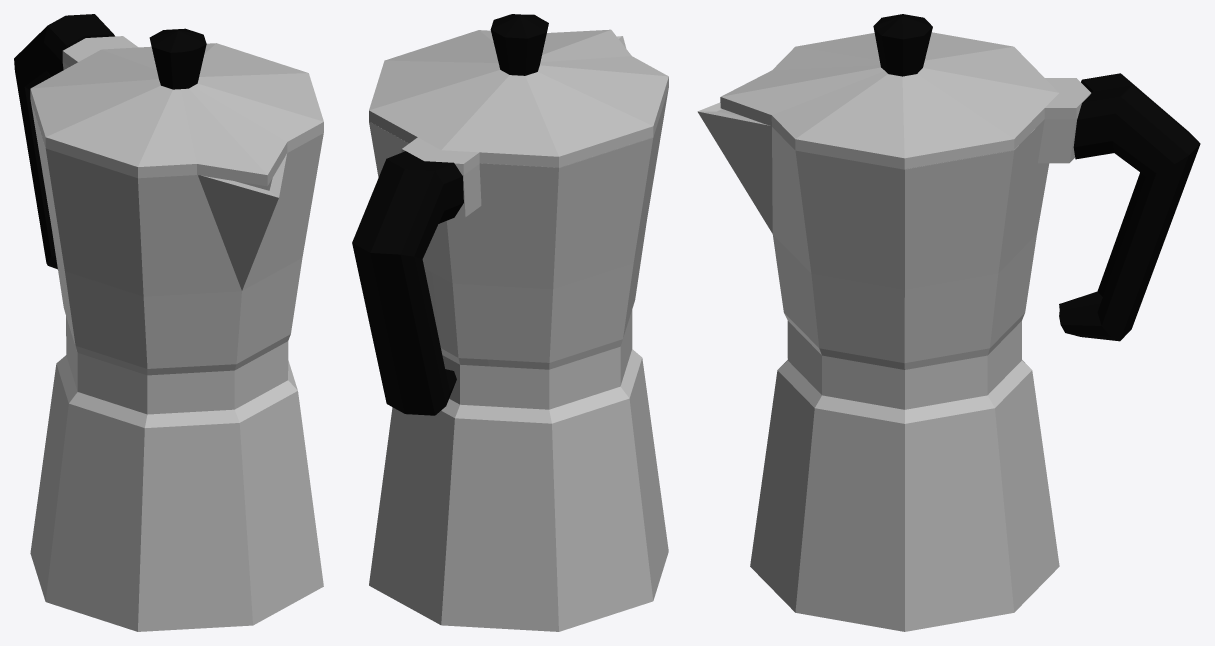
Rendered from Moka.fbx.
3 views of the same model, side by side, from view 1: azimuth 30°, elevation 25°; view 2: azimuth 150°, elevation 25°; view 3: azimuth 270°, elevation 25° (orthographic). The views are drawn at different scales.
Visible parts, largest first — view 1: Moka, Moka_Coperchio; view 2: Moka, Moka_Coperchio; view 3: Moka, Moka_Coperchio.
Boxes of the visible parts, x1=… form: Moka: x1=14, y1=14, x2=323, y2=631; Moka_Coperchio: x1=30, y1=28, x2=323, y2=186; Moka: x1=352, y1=36, x2=668, y2=631; Moka_Coperchio: x1=369, y1=14, x2=668, y2=174; Moka: x1=697, y1=73, x2=1200, y2=631; Moka_Coperchio: x1=720, y1=14, x2=1091, y2=169.
Bounding box in the file's own units: 116 × 228 × 189.
